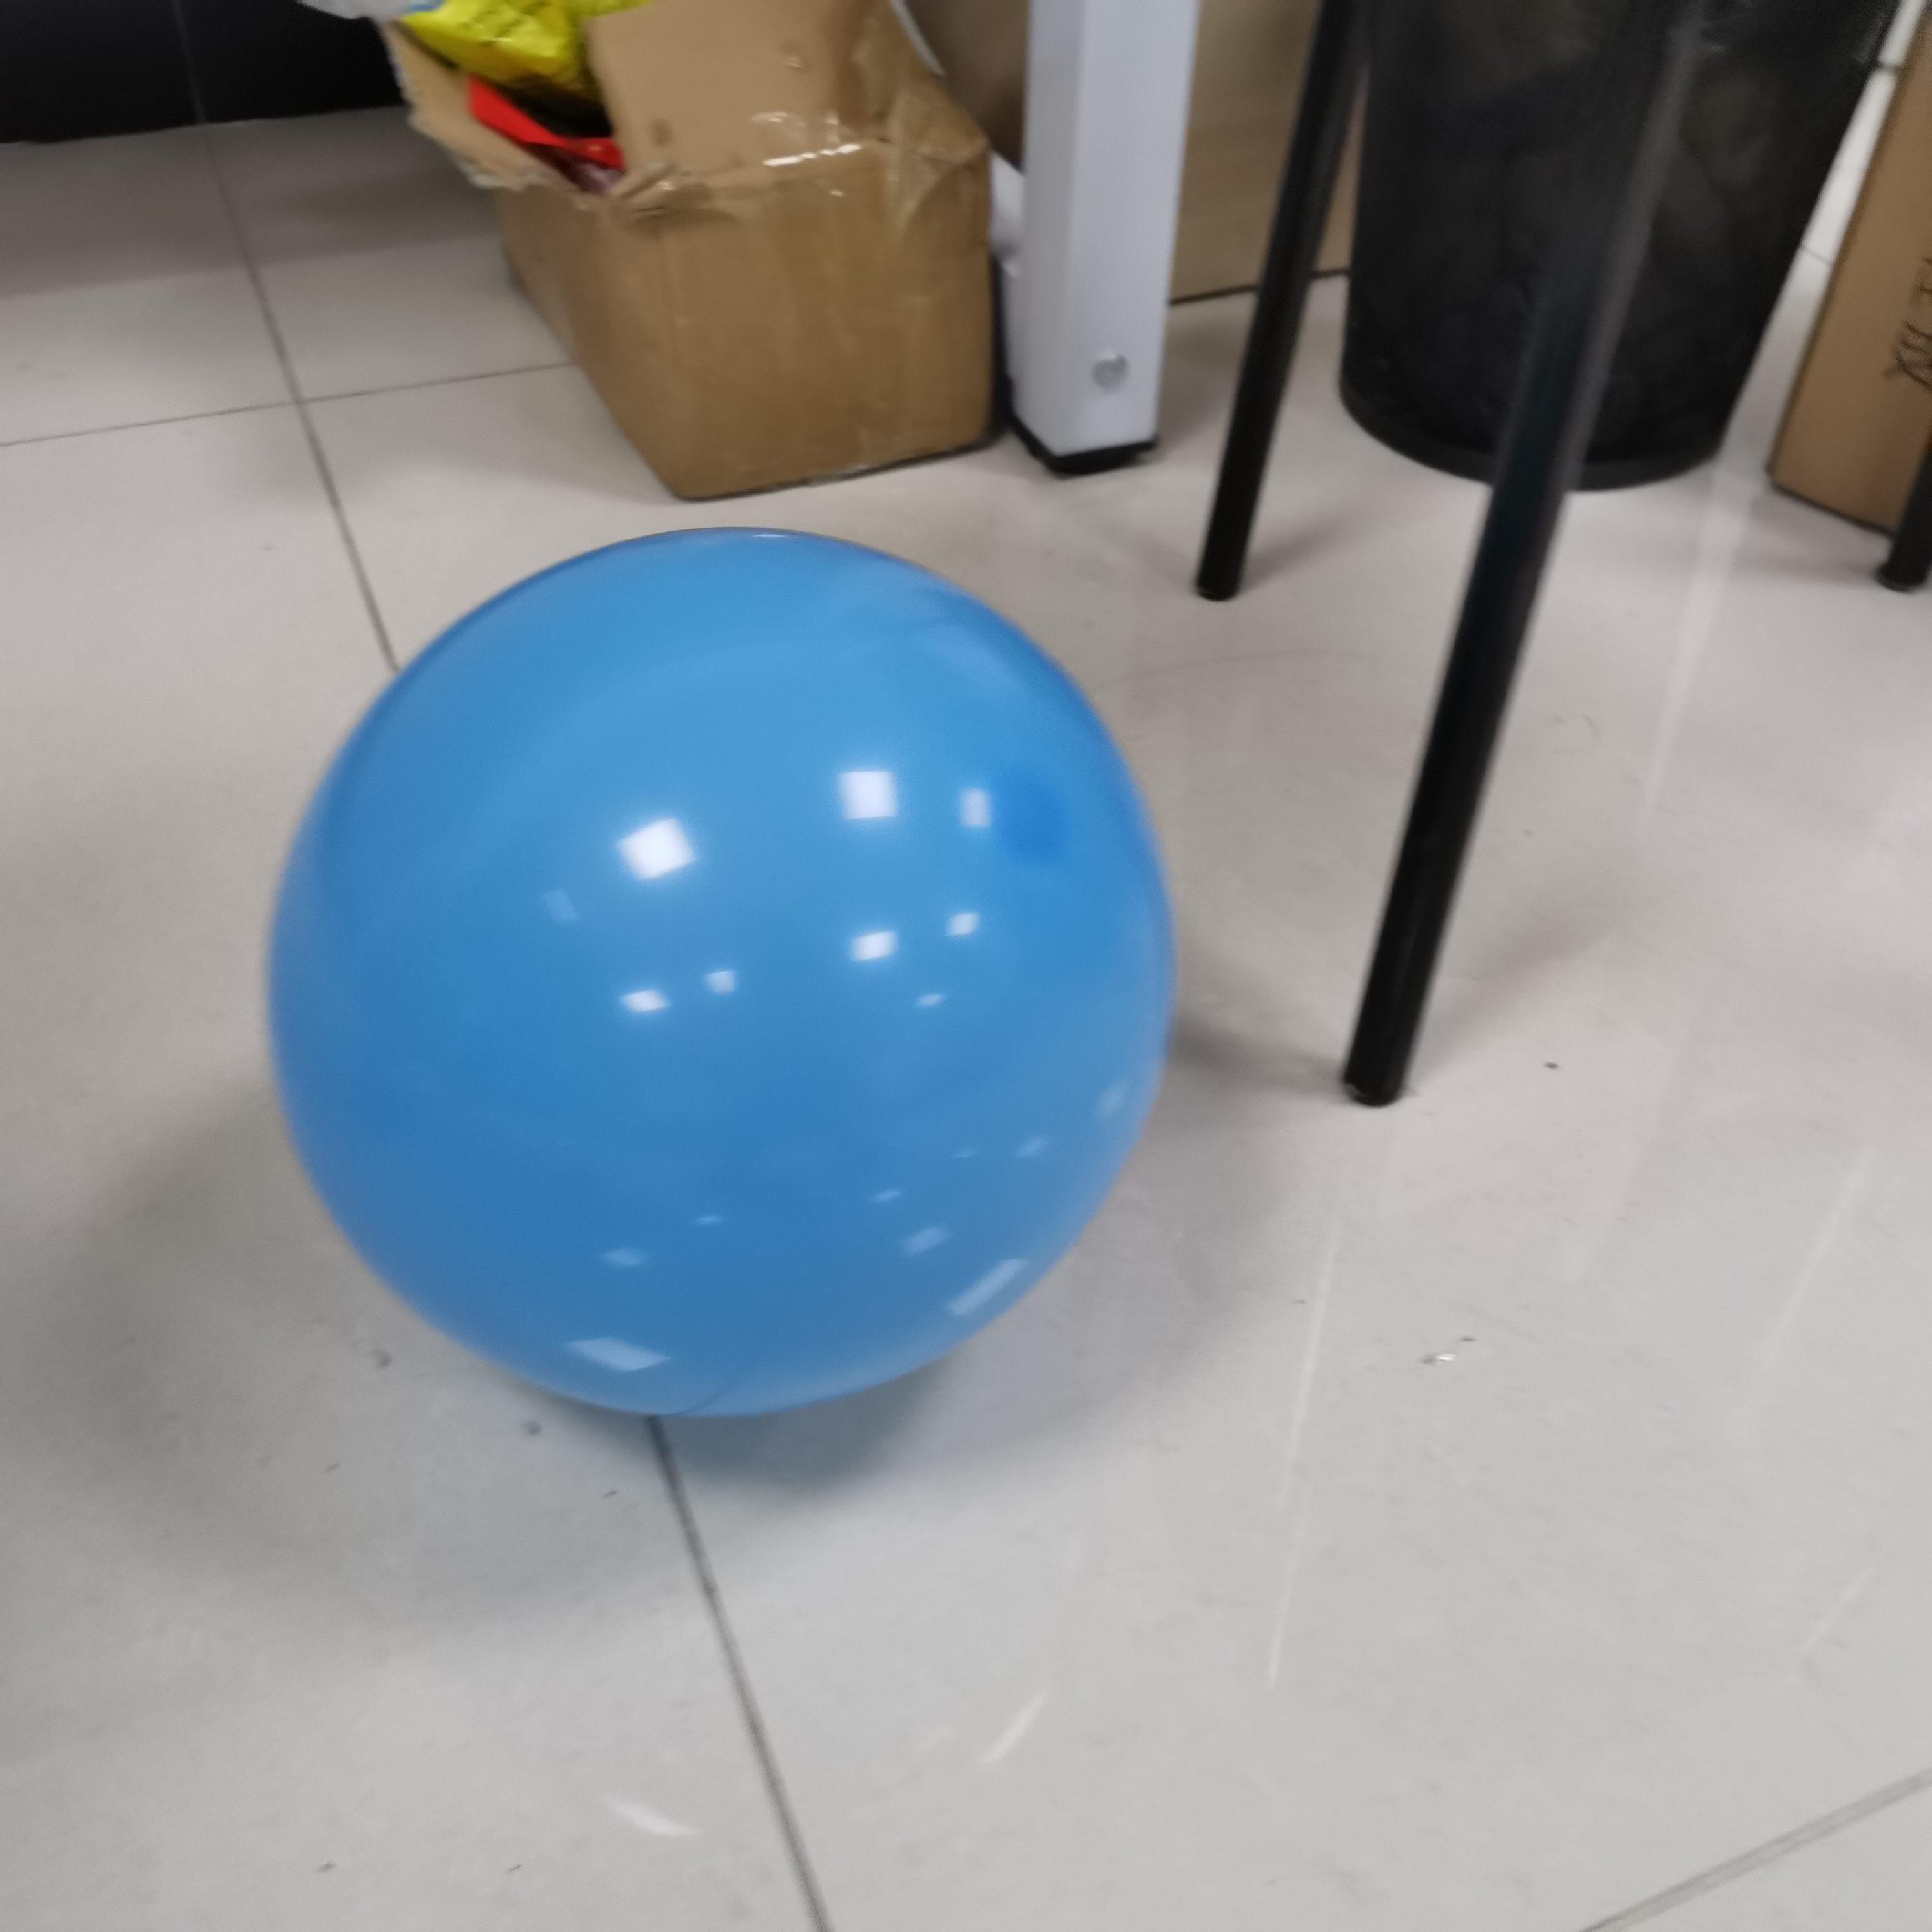balloon: (265, 533, 1168, 1419)
